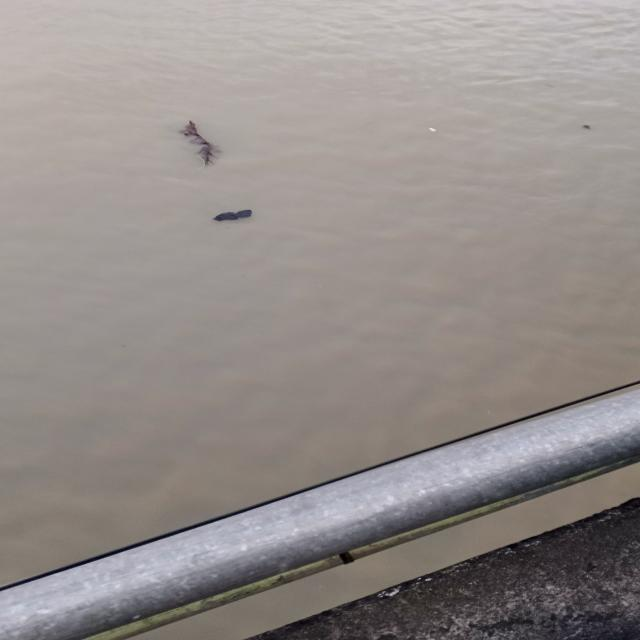Fabric and Textiles: (205, 207, 258, 224)
Organic Debris: (171, 118, 227, 174), (578, 123, 594, 131)
Plastic: (424, 125, 438, 133)
